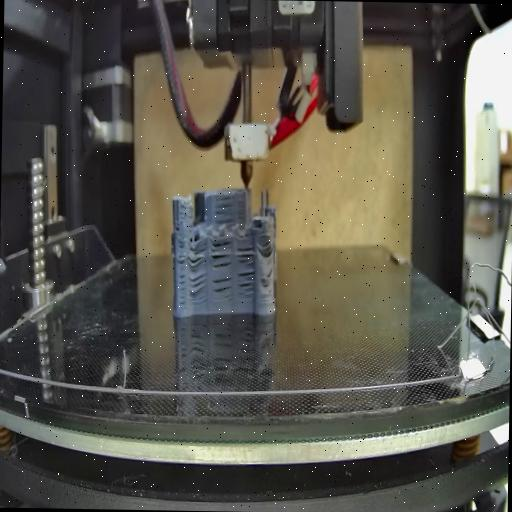cracks: (210, 240, 234, 271), (213, 194, 236, 226), (176, 243, 187, 307), (211, 275, 234, 303), (236, 270, 256, 299), (188, 244, 208, 266), (236, 242, 254, 266), (188, 273, 206, 295), (262, 238, 274, 255), (174, 219, 182, 233), (266, 266, 272, 282)
